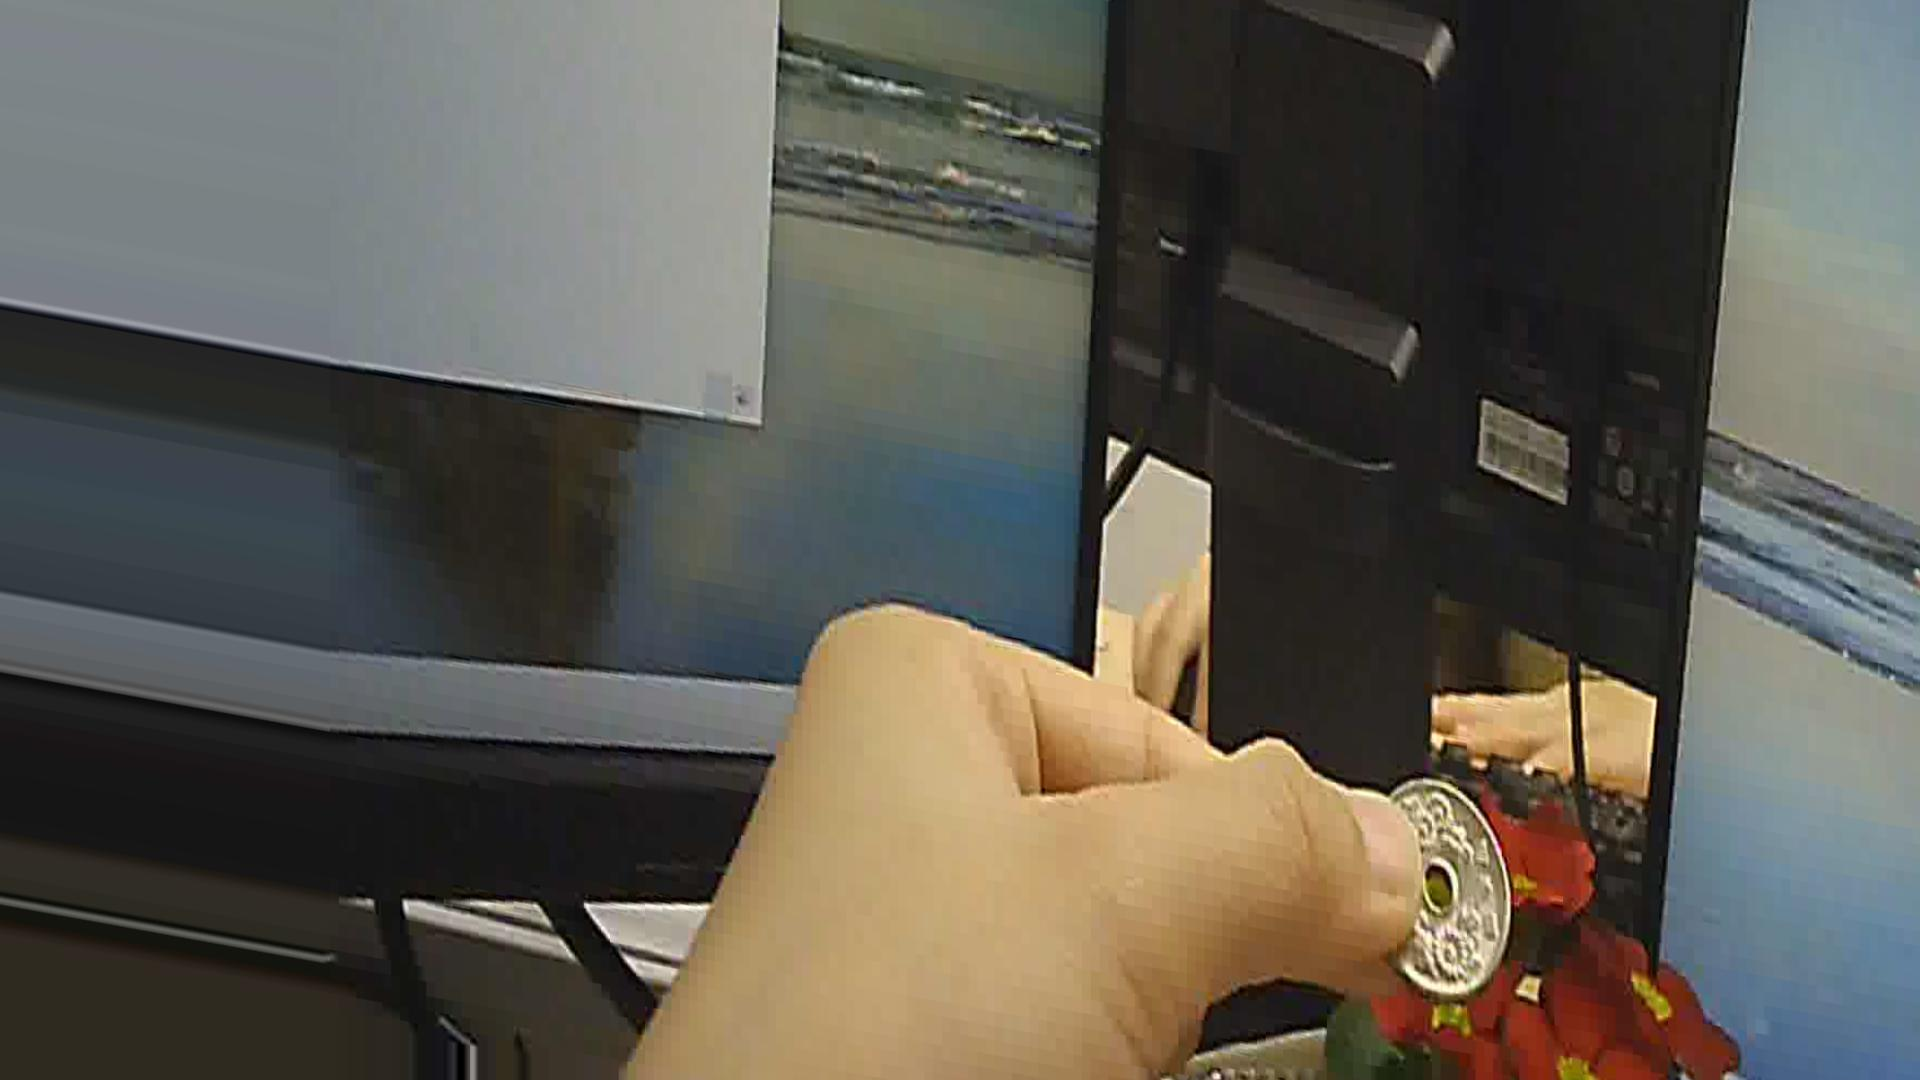50 Yen: (1366, 771, 1530, 1014)
